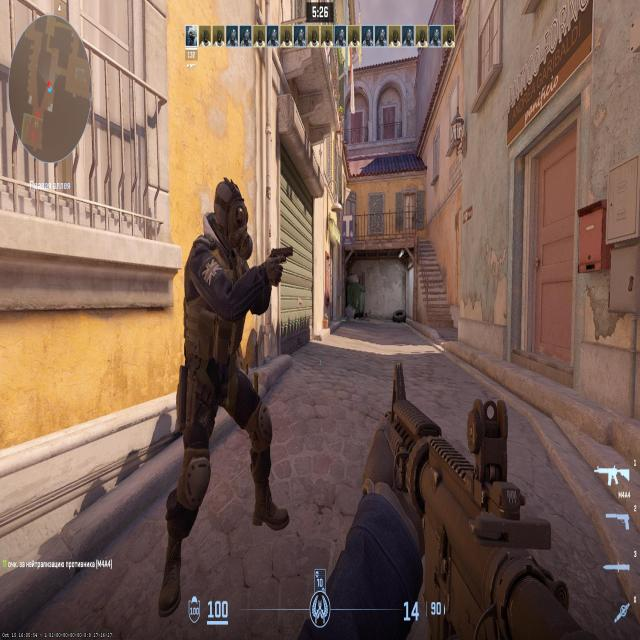CT: (199, 180, 254, 440)
CT_heat: (223, 190, 244, 246)
